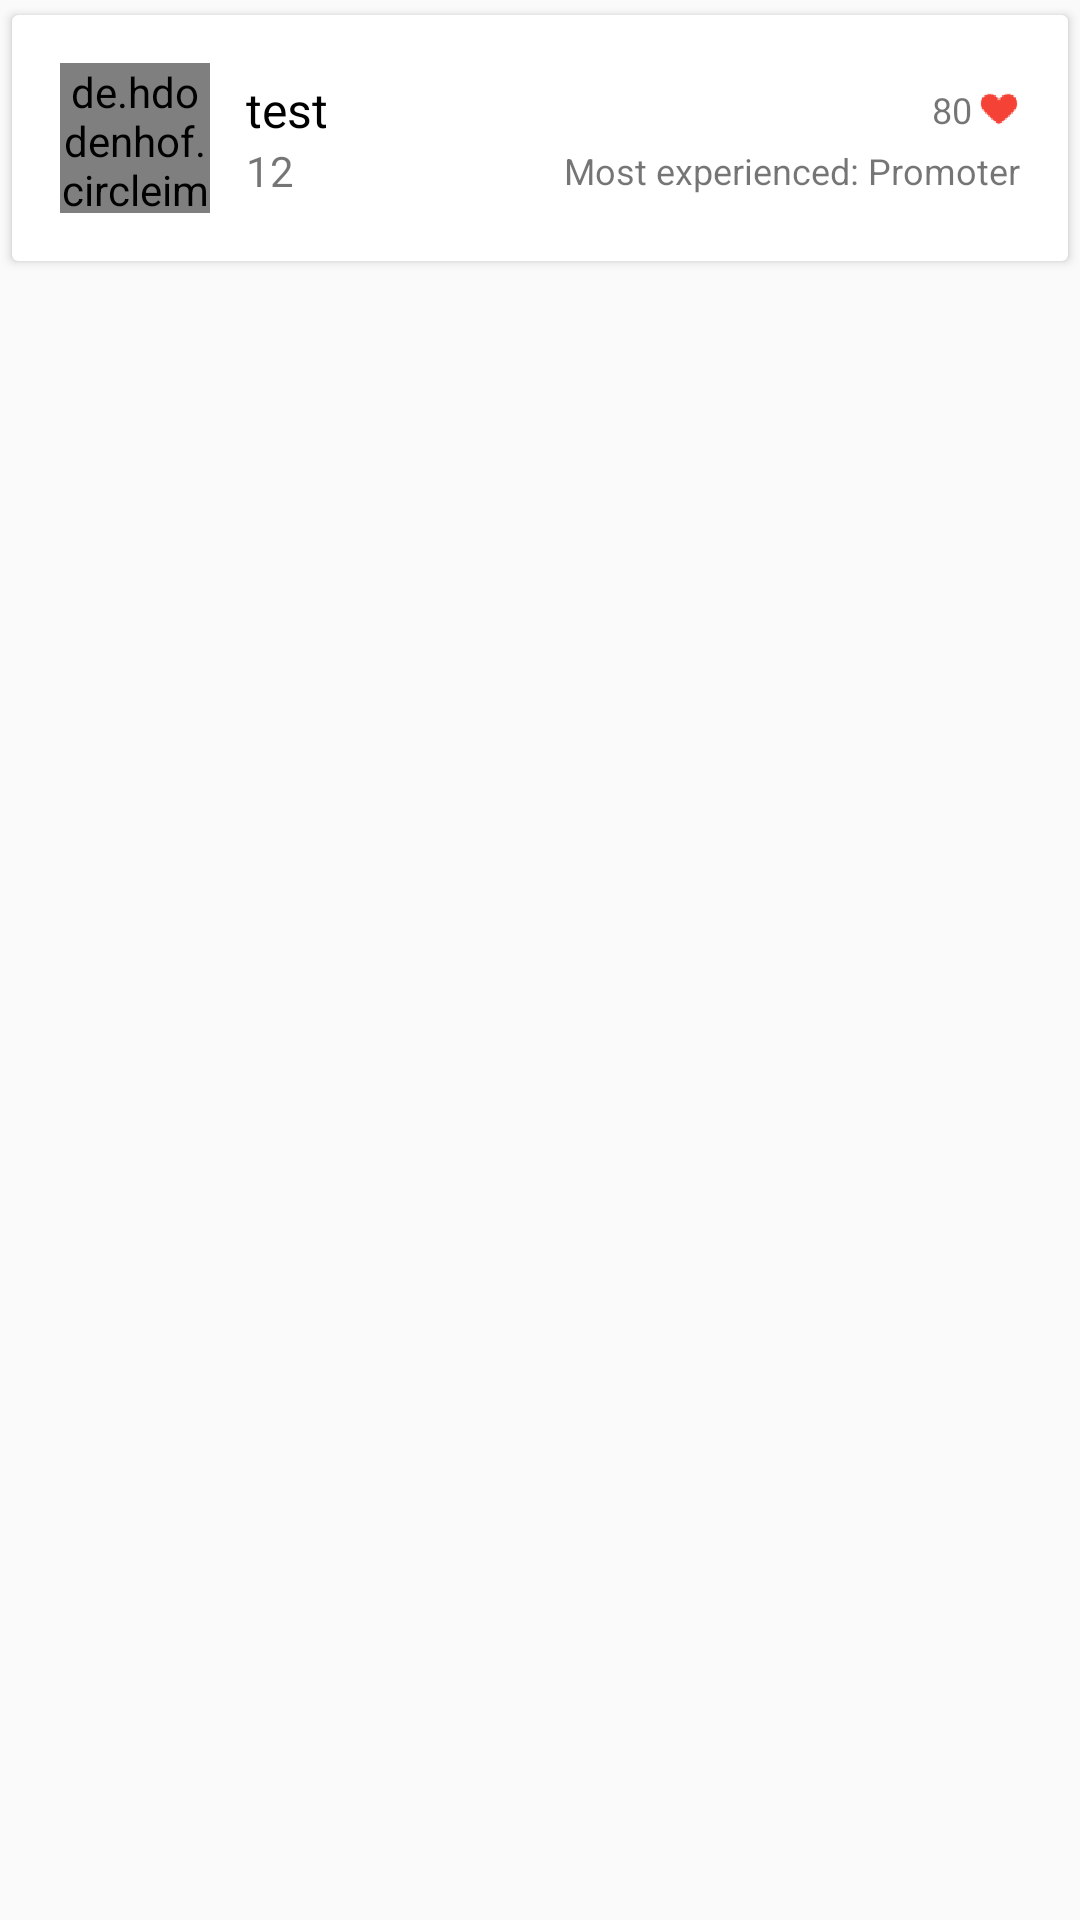

Icons on this 1080w x 1920h Android screen, each with its box as (x1, y1, x2, y2):
love: (981, 93, 1017, 124)
